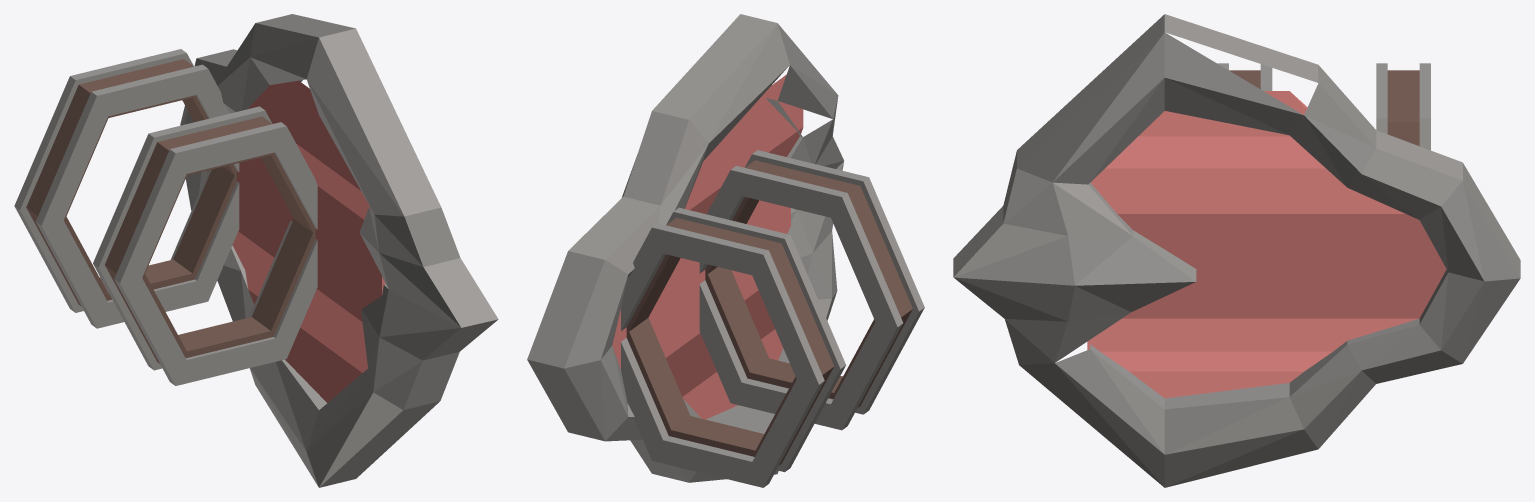
Rendered from couter_elbow.glb.
The picture shows the model from 3 angles, left to right: view 1: azimuth 30°, elevation 25°; view 2: azimuth 150°, elevation 25°; view 3: azimuth 270°, elevation 25°; orthographic projection.
Visible parts, largest first — view 1: group1248617509; view 2: group1248617509; view 3: group1248617509.
Boxes of the visible parts, x1,y1,x2,y2 form: group1248617509: (14,14,498,487); group1248617509: (527,14,924,487); group1248617509: (953,14,1520,487).
Size of the model in its own units: 0.0948 by 0.1567 by 0.1768.
